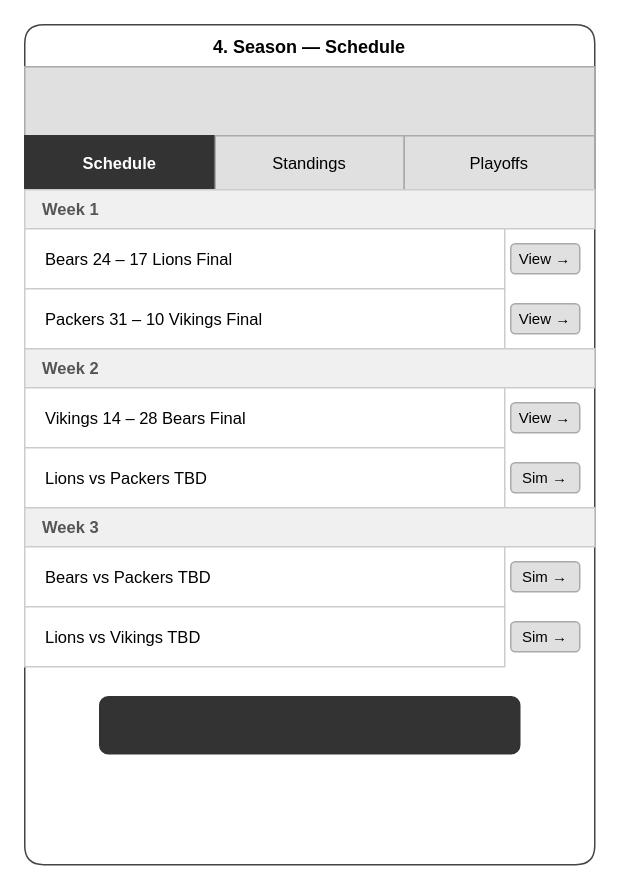
Image size: 620x890. Some labels were removed from this diagram. Here are the shapes that lost their labels. From the top down, the centre of each, then its label:
At point (309, 100): "← Dashboard Season 2".
At point (309, 724): "Simulate All Remaining Games".
